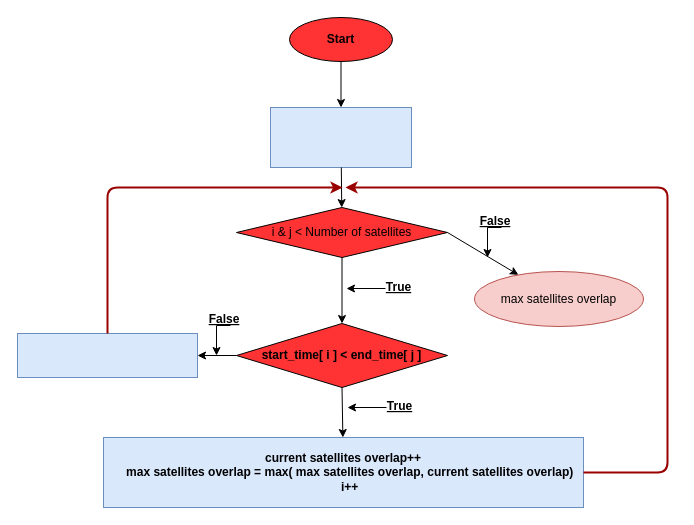
This 694x525 diagram has some shape labels left out. Here are the shapes that lost their labels. From the top down, the centre of each, then its label:
the point at 341,137: i, j, max satellites overlap, current satellites overlap = 0
the point at 107,355: current satellites overlap -- j++
